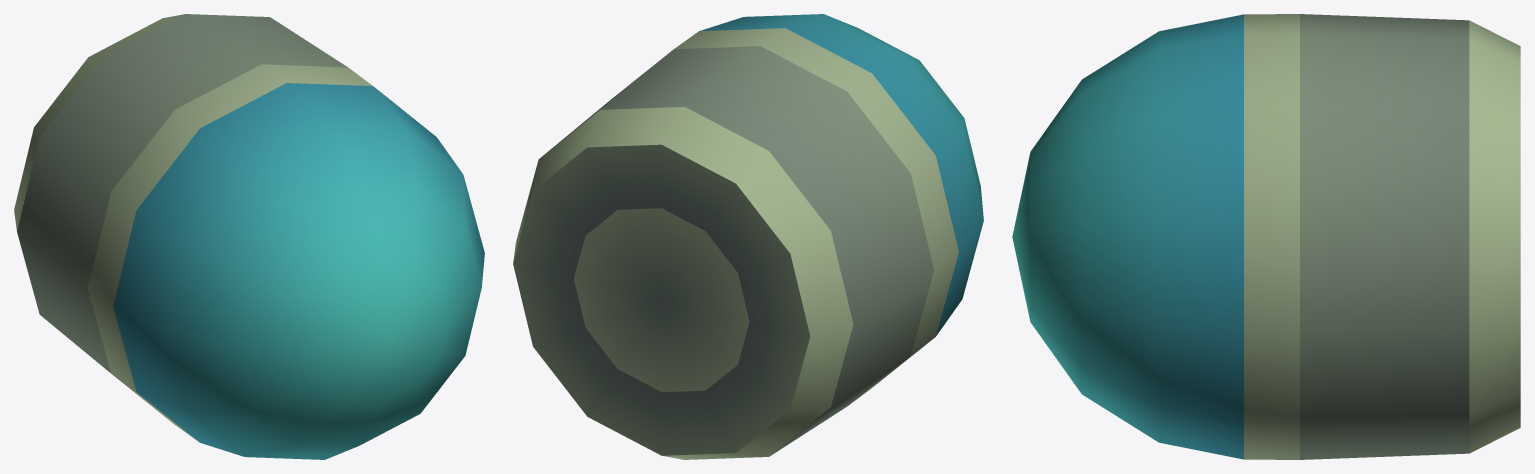
Rendered from matt-mortar-projectile.glb.
3 views of the same model, side by side, from view 1: azimuth 30°, elevation 25°; view 2: azimuth 150°, elevation 25°; view 3: azimuth 270°, elevation 25° (orthographic). The views are drawn at different scales.
Parts seen in each view (by area): view 1: turret_mortar_shell; view 2: turret_mortar_shell; view 3: turret_mortar_shell.
Boxes of the visible parts, x1,y1,x2,y2 form: turret_mortar_shell: [14, 14, 484, 459]; turret_mortar_shell: [513, 14, 983, 459]; turret_mortar_shell: [1012, 14, 1520, 459].
Size of the model in its own units: 0.7509 by 0.7509 by 0.8526.
Materials: 1 (1 with a texture image).
